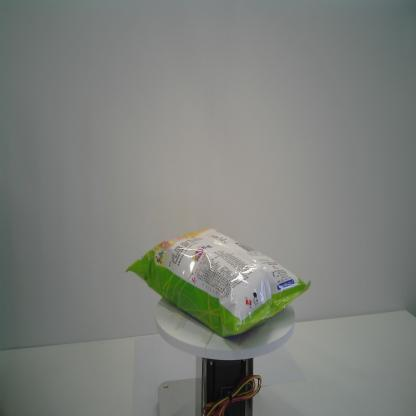Puffed Food: (123, 227, 313, 340)
